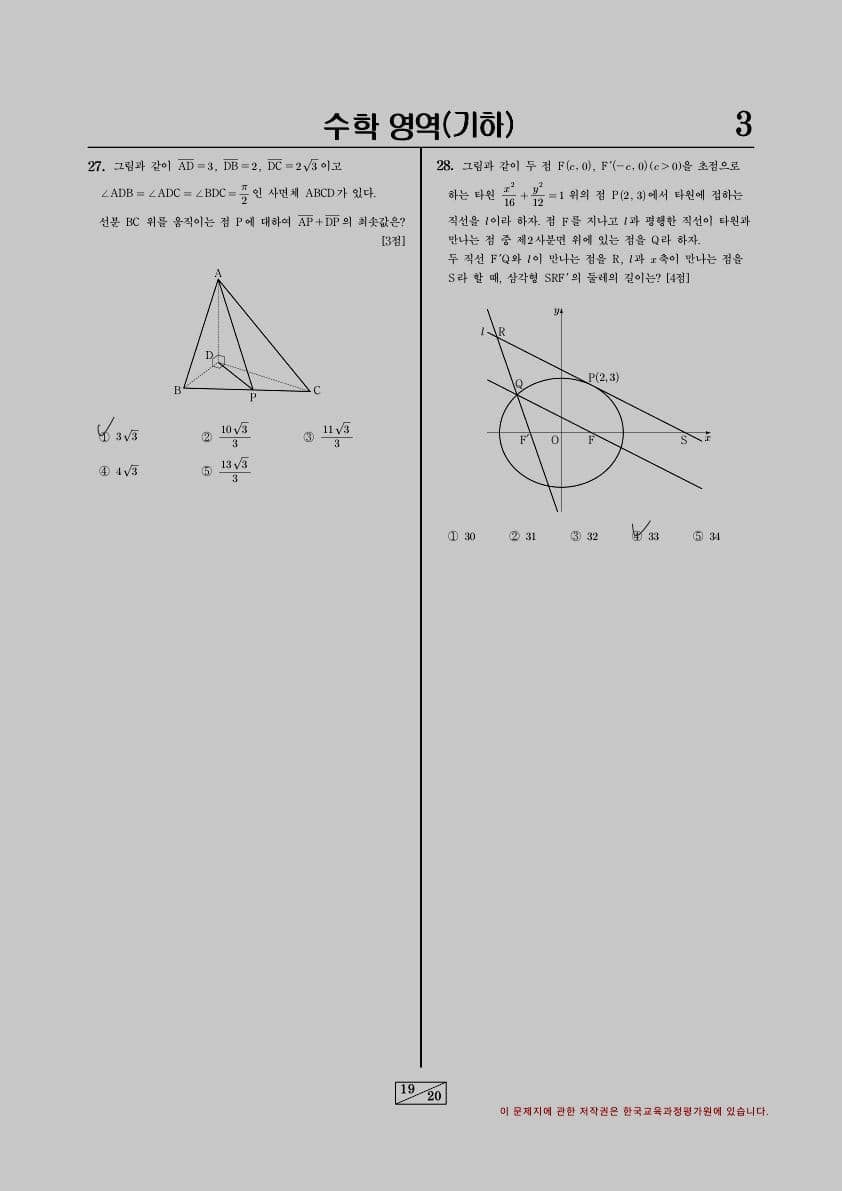question: (425, 151, 762, 560), (71, 151, 414, 494)
